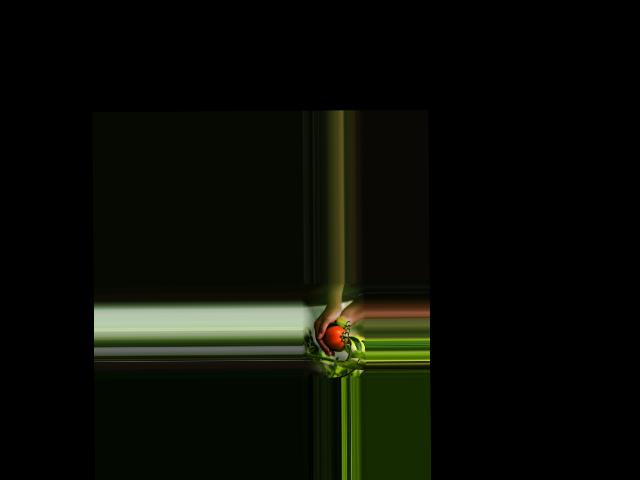tomato: (323, 325, 347, 348)
